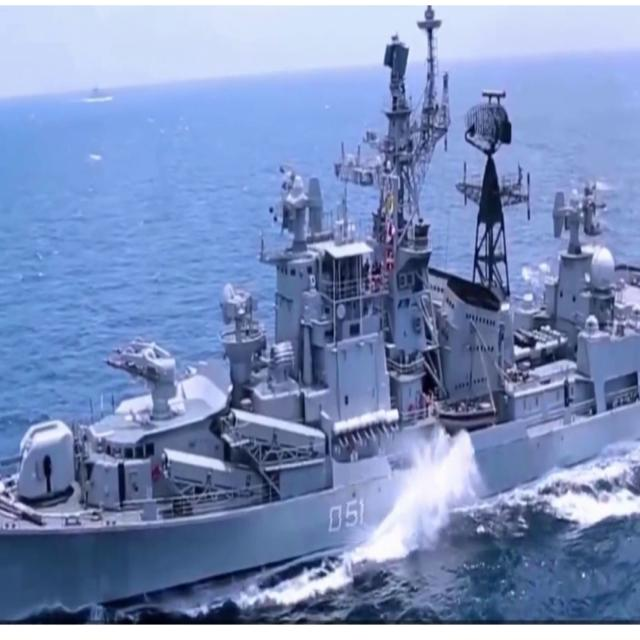OCR: (315, 484, 366, 542)
